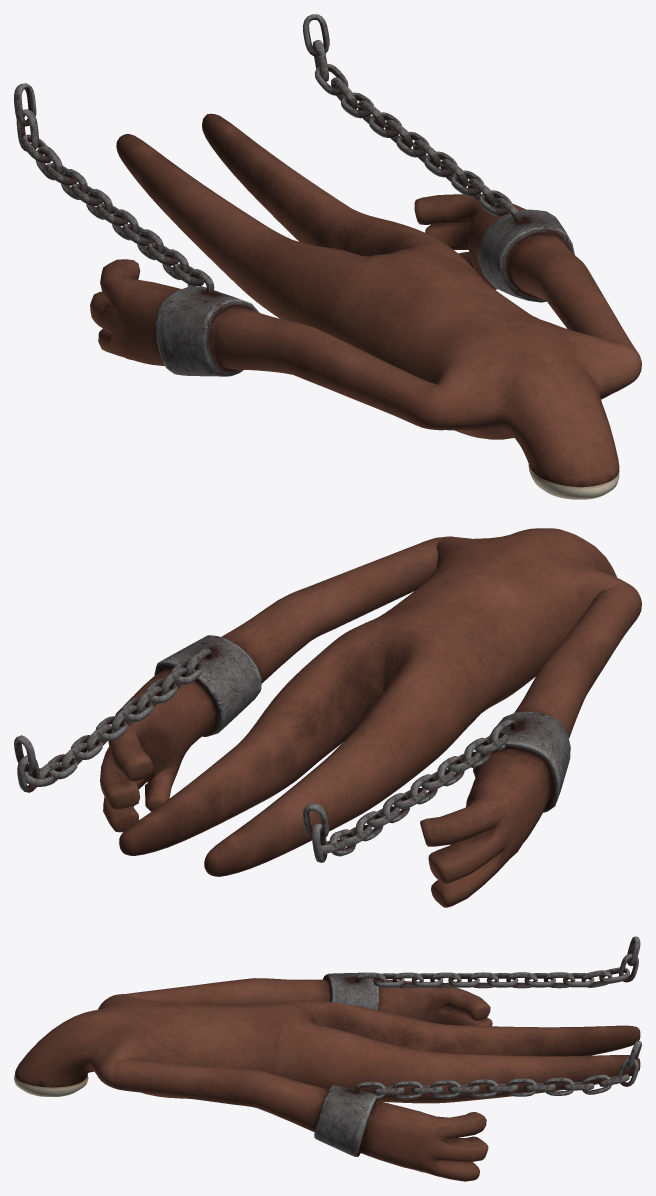
The model's file is CharacterModel.fbx.
The picture shows the model from 3 angles, top to bottom: view 1: azimuth 30°, elevation 25°; view 2: azimuth 150°, elevation 25°; view 3: azimuth 270°, elevation 25°; orthographic projection. The views are drawn at different scales.
Parts seen in each view (by area): view 1: Body; view 2: Body; view 3: Body.
Boxes of the visible parts, box(x1,y1,x2,y2) form: Body: box(14, 14, 641, 499); Body: box(14, 528, 641, 907); Body: box(14, 936, 641, 1181).
Bounding box in the file's own units: 2.81 × 1.23 × 5.22.
1 material, 1 textured.
